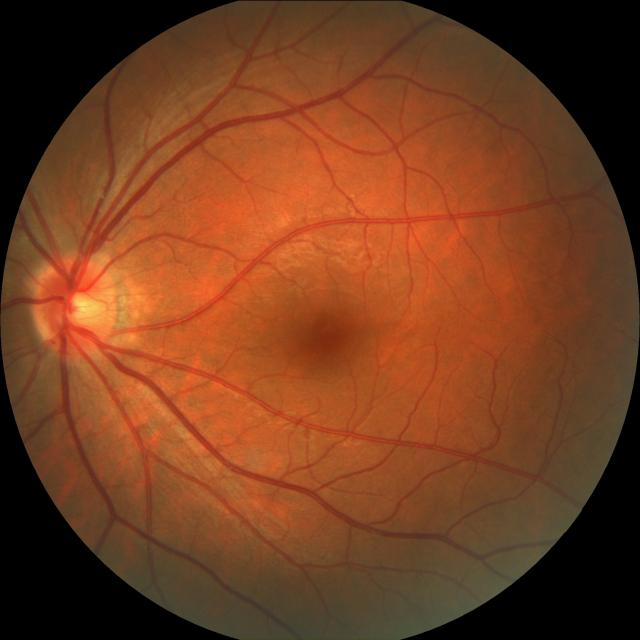OC: (58, 288, 102, 331)
OD: (30, 254, 118, 356)
